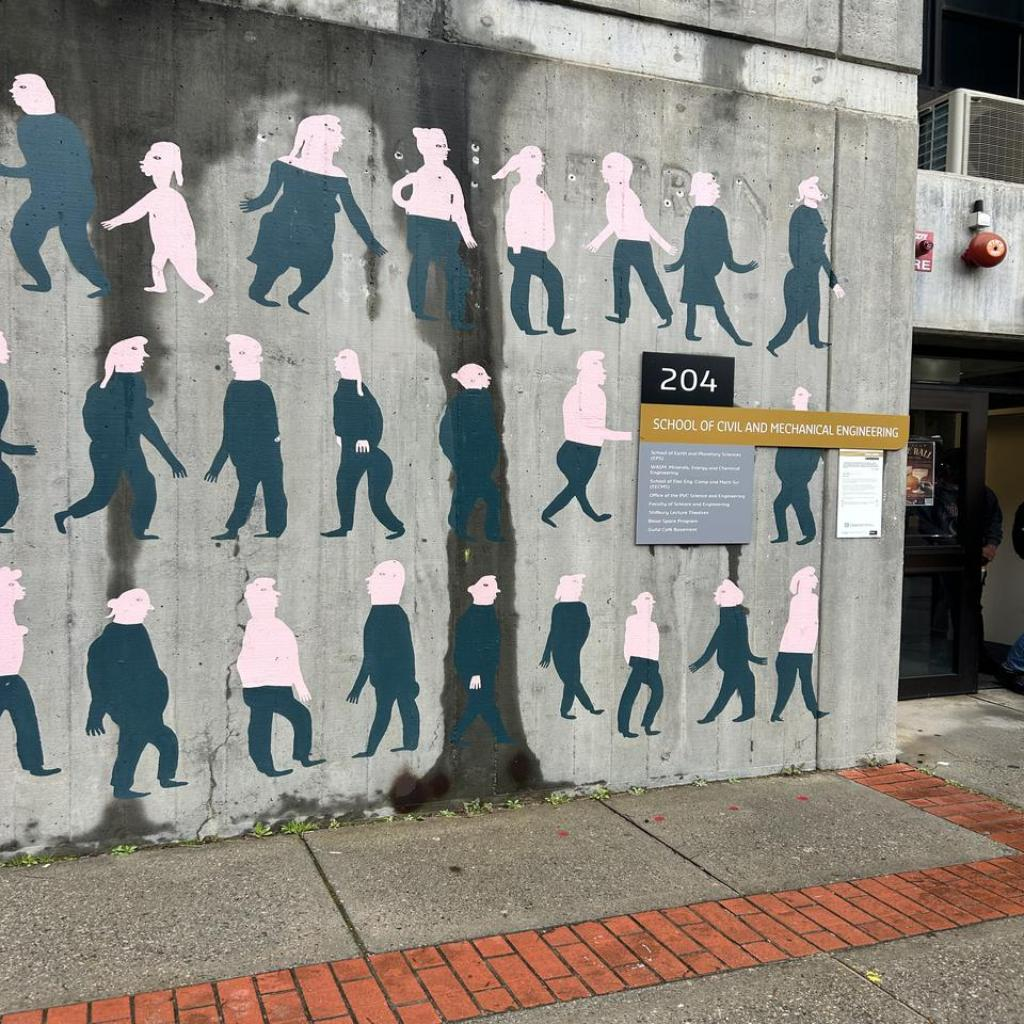BuildingCodes: (658, 364, 720, 396)
